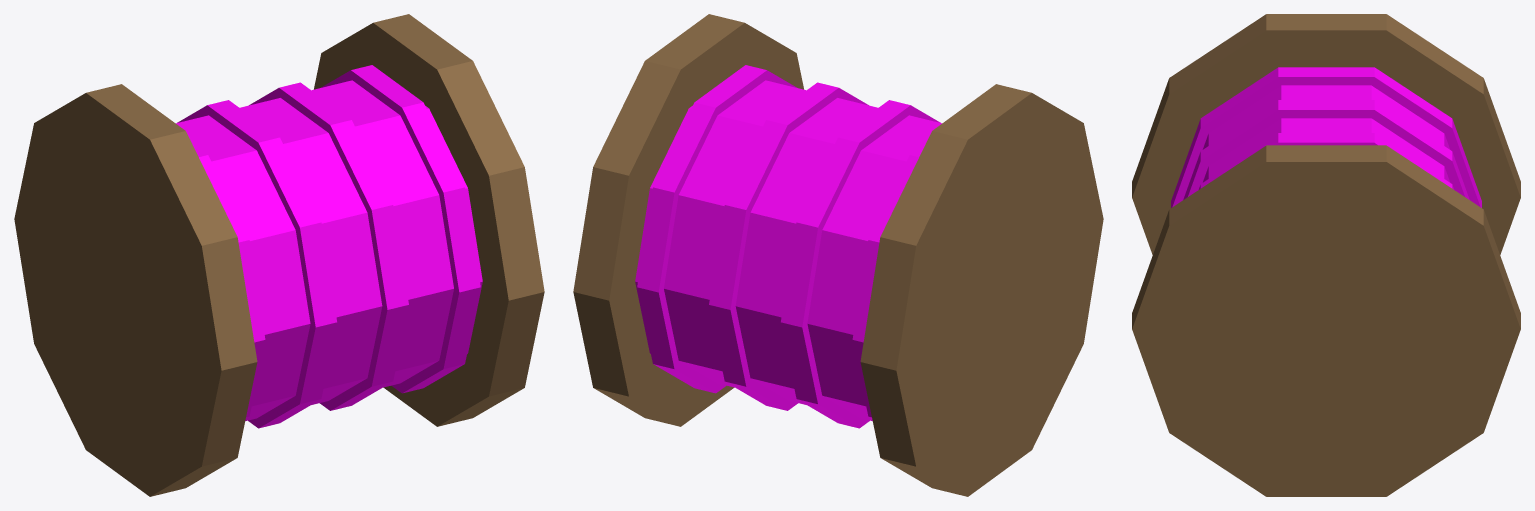
Rendered from objet_bobine.glb.
3 renders of one model, left to right at view 1: azimuth 30°, elevation 25°; view 2: azimuth 150°, elevation 25°; view 3: azimuth 270°, elevation 25°, orthographic. The views are drawn at different scales.
Visible parts, largest first — view 1: bobine_bois.002, bobine_teinte.002; view 2: bobine_bois.002, bobine_teinte.002; view 3: bobine_bois.002, bobine_teinte.002.
Part boxes in pixels (x1,y1,x2,y2): bobine_bois.002: (14, 14, 544, 496); bobine_teinte.002: (176, 65, 482, 428); bobine_bois.002: (573, 14, 1103, 496); bobine_teinte.002: (635, 65, 941, 428); bobine_bois.002: (1132, 14, 1520, 496); bobine_teinte.002: (1171, 67, 1481, 207).
Size of the model in its own units: 0.18 by 0.1902 by 0.2.
